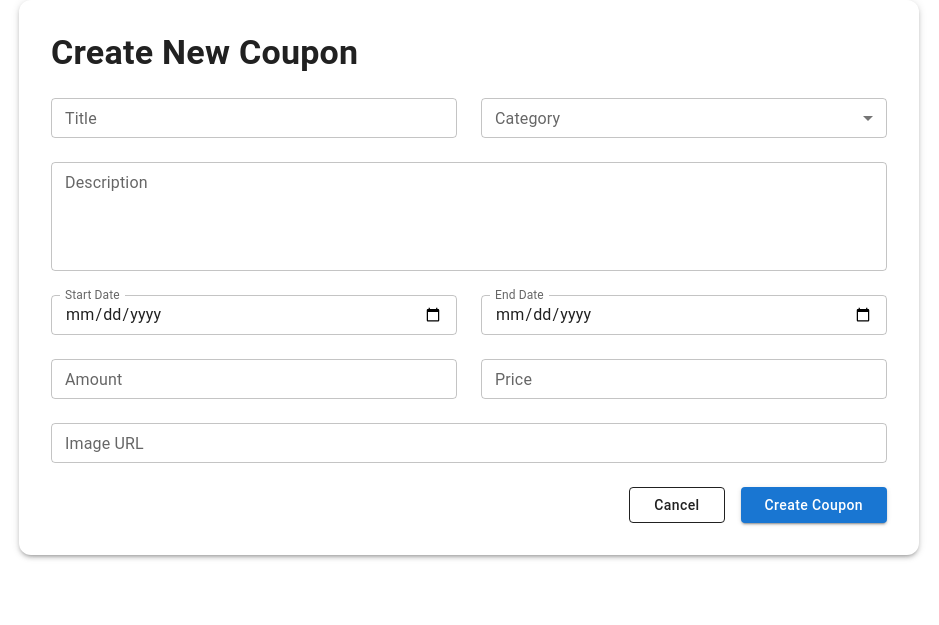
CouponForm › Category Field Validation › should clear error when category is selected
The width and height of the screenshot is (939, 625).
Click the dropdown named "category": click(684, 118) x1=481 y1=98 x2=887 y2=138
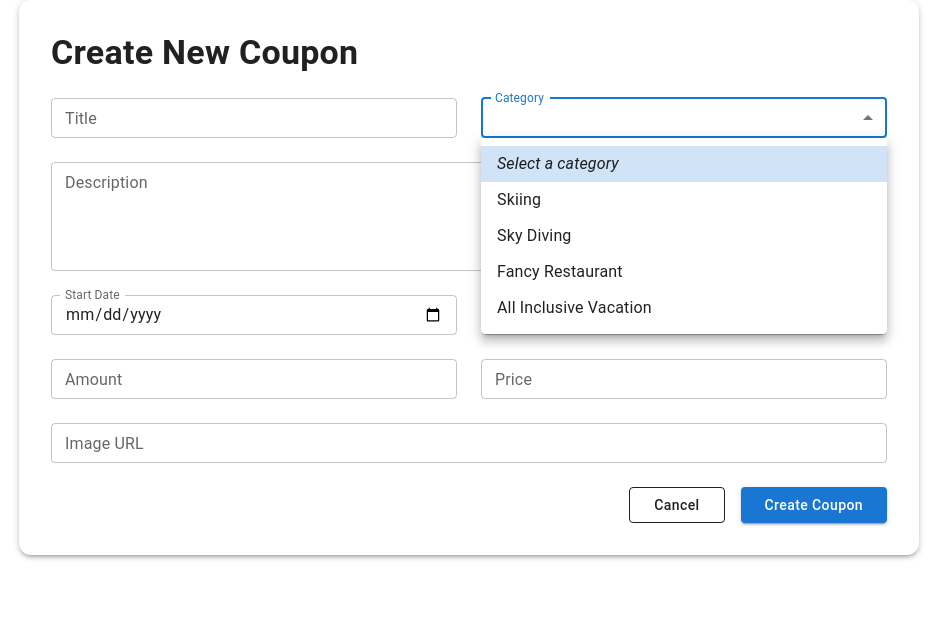
Press Escape
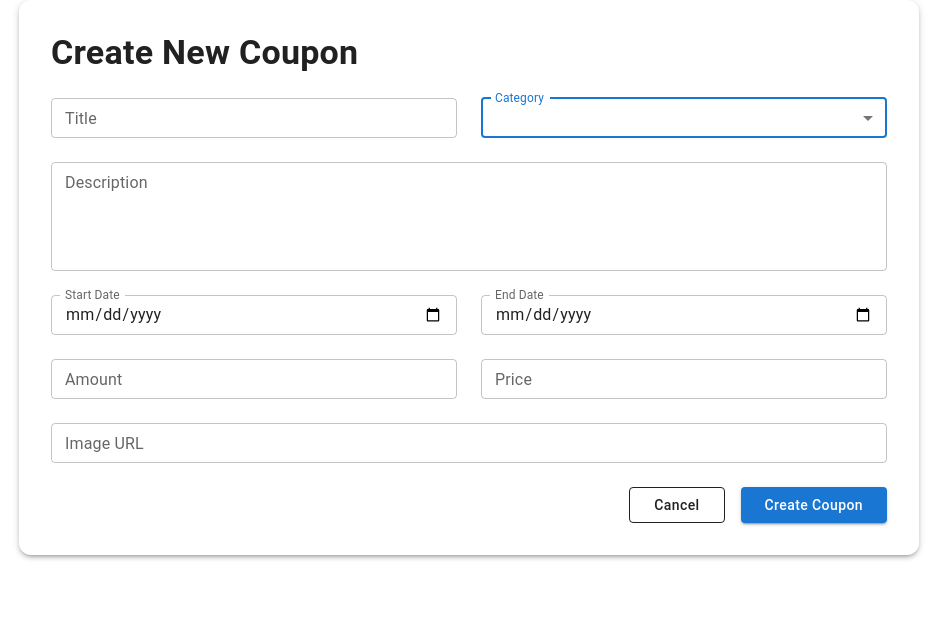
Press Tab
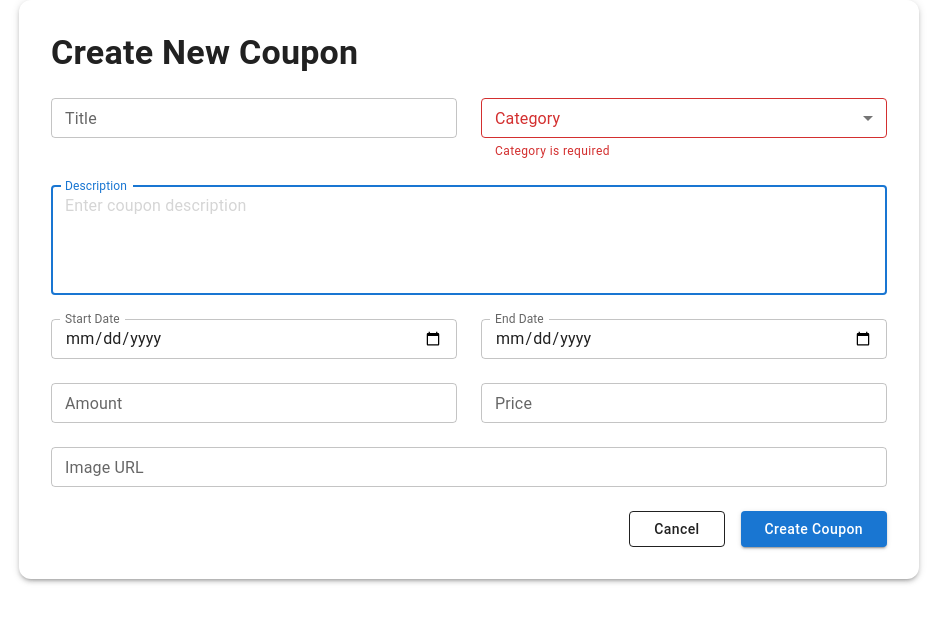
Result: the text "Category is required" is shown at x1=495 y1=144 x2=610 y2=158
Click the dropdown named "category": click(684, 118) x1=481 y1=98 x2=887 y2=138
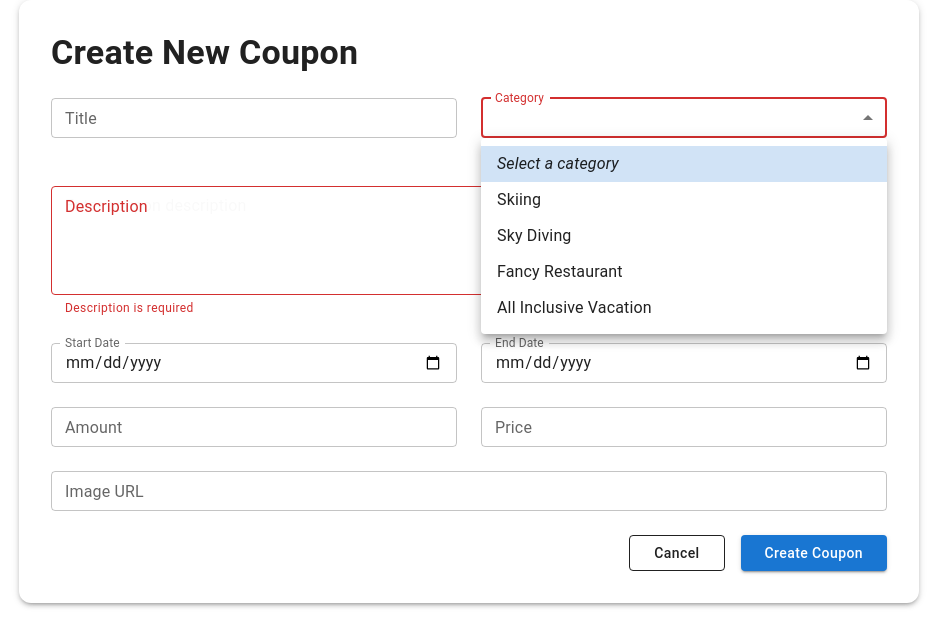
Click the option "Skiing": click(519, 200) x1=497 y1=190 x2=541 y2=209
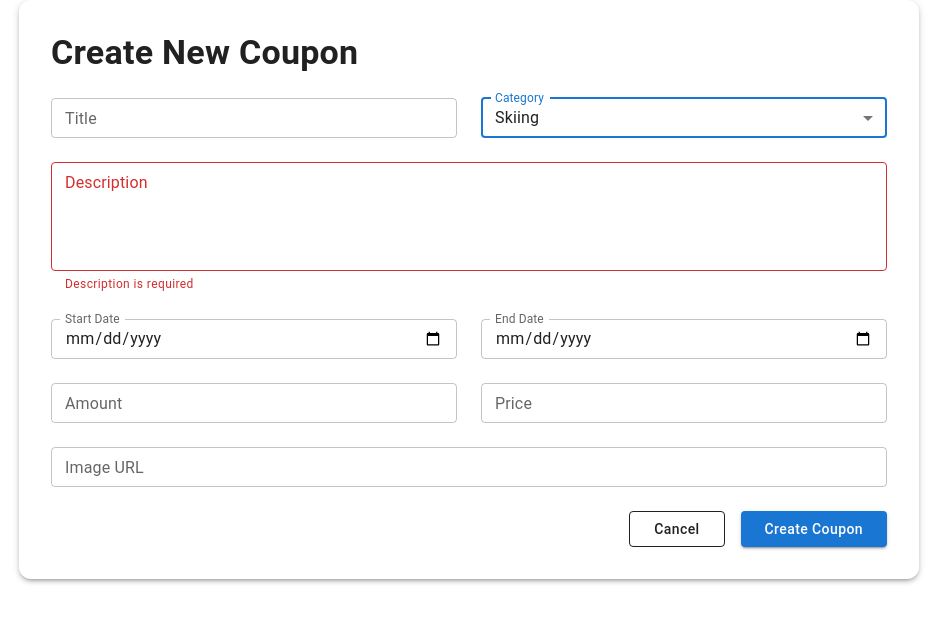
Result: the text "Category is required" is gone
